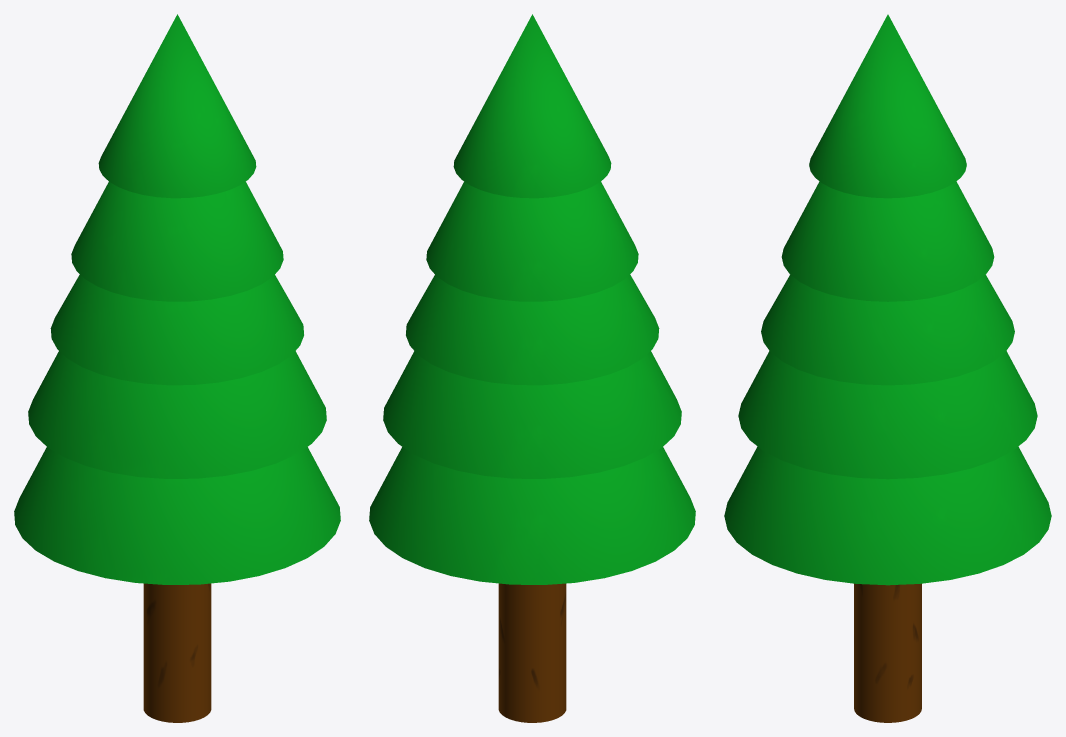
Rendered from PineTree.fbx.
The picture shows the model from 3 angles, left to right: view 1: azimuth 30°, elevation 25°; view 2: azimuth 150°, elevation 25°; view 3: azimuth 270°, elevation 25°; orthographic projection.
Visible parts, largest first — view 1: Pine, Pine.001, Pine.002, Pine.003, Pine.004, Trunk; view 2: Pine, Pine.001, Pine.002, Pine.003, Pine.004, Trunk; view 3: Pine, Pine.001, Pine.002, Pine.003, Pine.004, Trunk.
Part boxes in pixels (x1,y1,x2,y2): Pine: (14, 447, 340, 584); Pine.001: (28, 351, 326, 478); Pine.002: (50, 274, 303, 385); Pine.003: (71, 181, 283, 301); Pine.004: (98, 14, 256, 198); Trunk: (143, 583, 211, 722); Pine: (369, 447, 695, 584); Pine.001: (383, 351, 681, 478); Pine.002: (406, 274, 659, 385); Pine.003: (426, 181, 638, 301); Pine.004: (453, 14, 611, 198); Trunk: (498, 583, 566, 722); Pine: (724, 446, 1051, 585); Pine.001: (738, 351, 1037, 479); Pine.002: (761, 274, 1014, 385); Pine.003: (781, 181, 994, 301); Pine.004: (809, 14, 966, 198); Trunk: (854, 583, 921, 722).
Size of the model in its own units: 190 by 444 by 190.
Materials: 2 (2 with a texture image).
